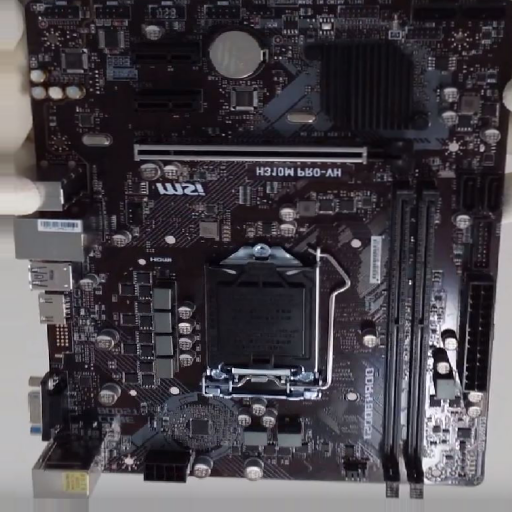CPU: (201, 242, 322, 398)
GPU: (134, 139, 415, 171)
MOTHERBOARD: (26, 1, 509, 484)
RAM: (383, 185, 440, 502)
